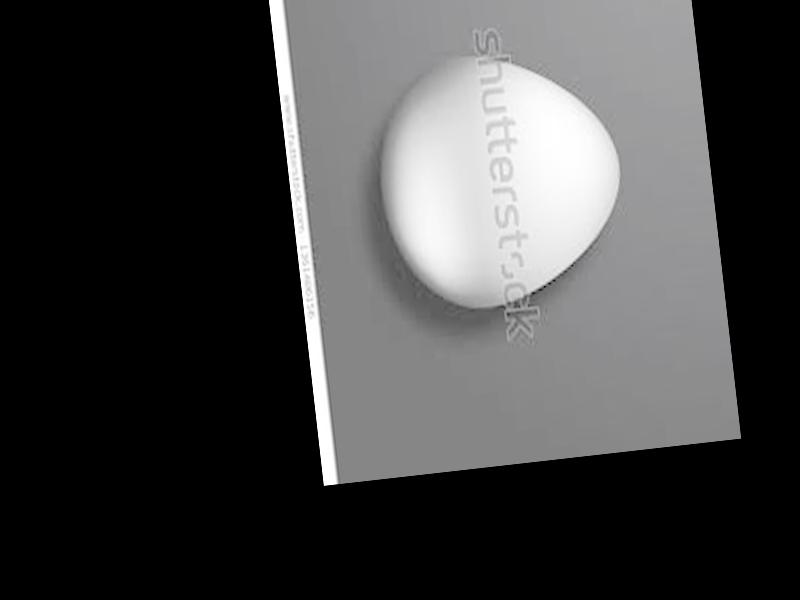Eggs: (370, 41, 635, 317)
